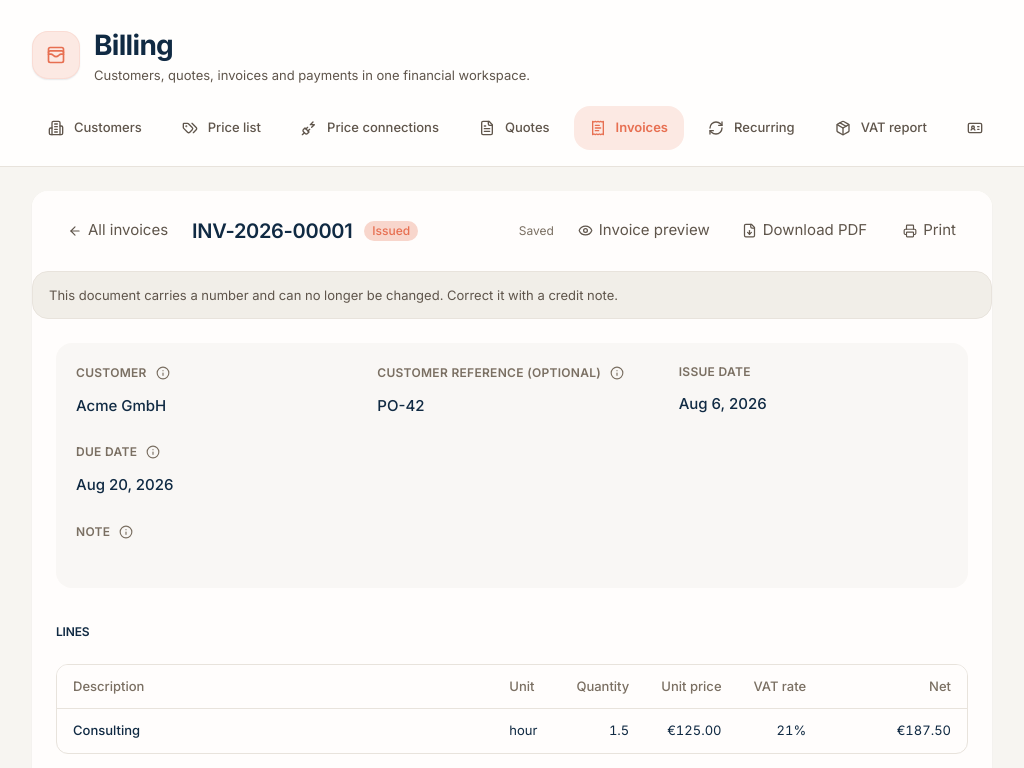
Test: printing a document › says so in the server's words when the page cannot be prepared, and prints nothing
Click the button "Print" at point(930, 231), box 891,211 -> 968,250
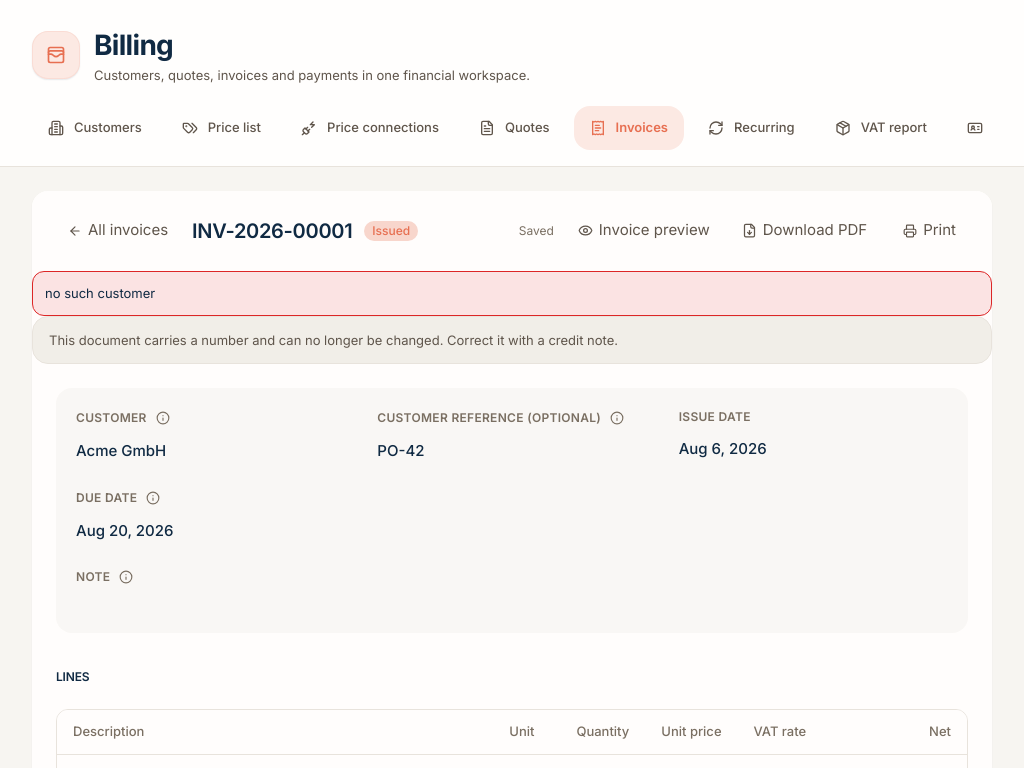
Result: the text "no such customer" is shown at 32,270 -> 992,316
